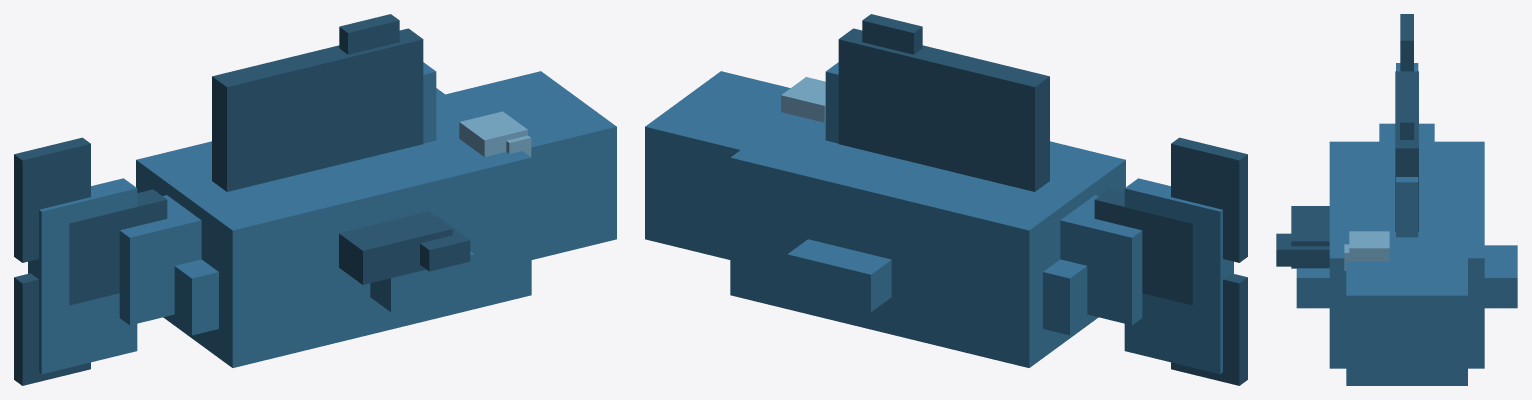
The model's file is fish_blue_mackerel.glb.
3 renders of one model, left to right at view 1: azimuth 30°, elevation 25°; view 2: azimuth 150°, elevation 25°; view 3: azimuth 270°, elevation 25°, orthographic. The views are drawn at different scales.
Visible parts, largest first — view 1: FishArt_body, FishArt_dorsal, FishArt_tail, FishArt_pectoral, FishArt_eye; view 2: FishArt_body, FishArt_dorsal, FishArt_tail, FishArt_eye; view 3: FishArt_body, FishArt_pectoral, FishArt_dorsal, FishArt_eye, FishArt_tail.
Boxes of the visible parts, x1,y1,x2,y2 form: FishArt_body: (28,62,616,374); FishArt_dorsal: (212,14,423,191); FishArt_tail: (14,137,167,385); FishArt_pectoral: (339,211,470,284); FishArt_eye: (459,111,531,156); FishArt_body: (645,62,1233,374); FishArt_dorsal: (838,14,1049,191); FishArt_tail: (1094,137,1247,385); FishArt_eye: (781,77,825,122); FishArt_body: (1296,63,1517,385); FishArt_pectoral: (1276,206,1329,268); FishArt_dorsal: (1395,71,1418,231); FishArt_eye: (1344,231,1389,270); FishArt_tail: (1400,14,1413,71).
Bounding box in the file's own units: 0.3091 × 0.1442 × 0.1439.
